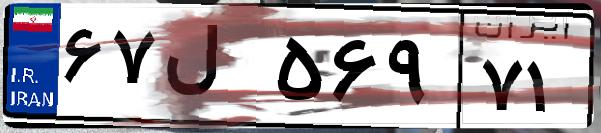1: (525, 38, 570, 115)
5: (270, 28, 330, 110)
6: (330, 28, 385, 110), (57, 26, 110, 100)
7: (475, 38, 525, 113), (110, 28, 158, 98)
9: (385, 28, 445, 110)
ل: (158, 20, 270, 120)
